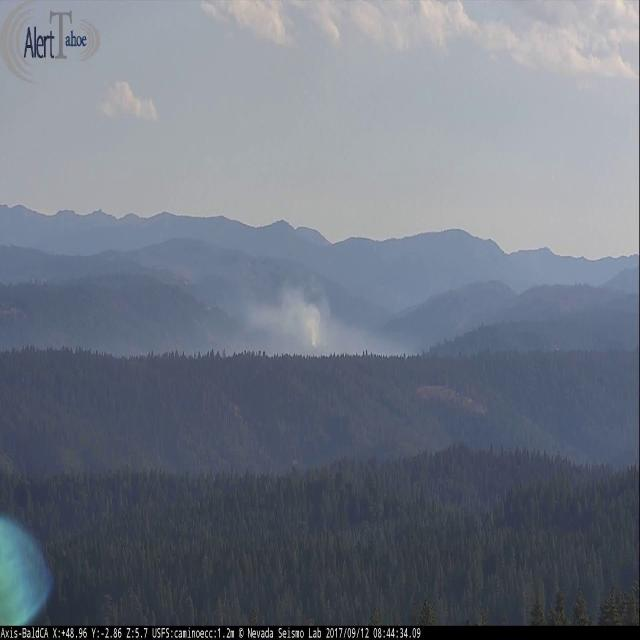smoke: (237, 266, 394, 353)
